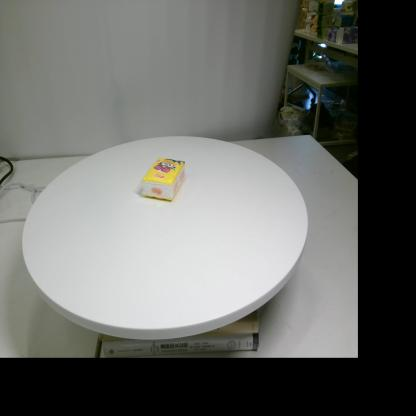Tissue: (140, 158, 186, 200)
